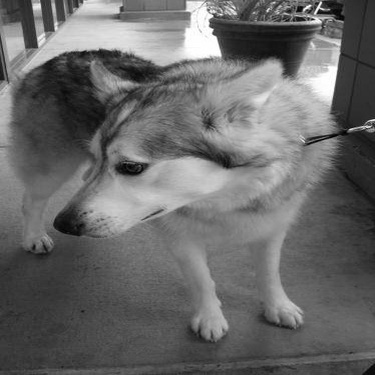dog: (1, 39, 340, 339)
